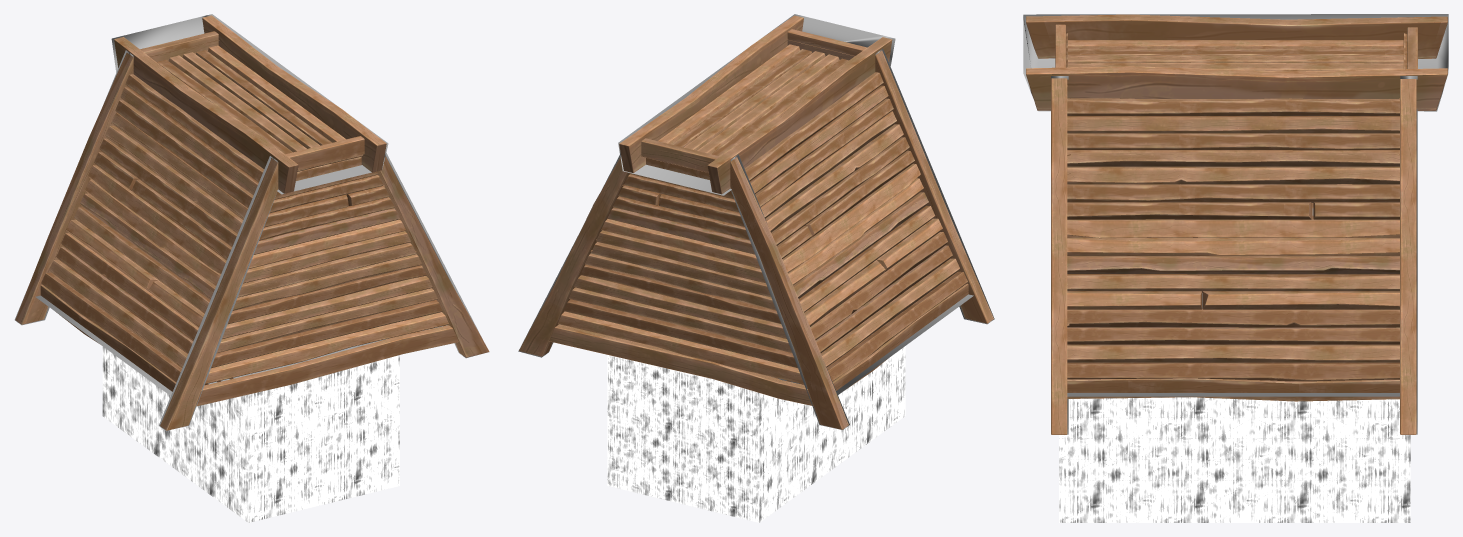
Rendered from SM_BuildingBase_01.gltf.
3 renders of one model, left to right at view 1: azimuth 30°, elevation 25°; view 2: azimuth 150°, elevation 25°; view 3: azimuth 270°, elevation 25°, orthographic. The views are drawn at different scales.
Parts seen in each view (by area): view 1: SM_BuildingBase_01_LOD0, SM_BuildingBase_01_ConvexHulls; view 2: SM_BuildingBase_01_LOD0, SM_BuildingBase_01_ConvexHulls; view 3: SM_BuildingBase_01_LOD0, SM_BuildingBase_01_ConvexHulls.
Boxes of the visible parts, bbox=[...] form: SM_BuildingBase_01_LOD0: bbox=[15, 15, 489, 522]; SM_BuildingBase_01_ConvexHulls: bbox=[14, 14, 487, 430]; SM_BuildingBase_01_LOD0: bbox=[519, 15, 993, 522]; SM_BuildingBase_01_ConvexHulls: bbox=[518, 14, 994, 429]; SM_BuildingBase_01_LOD0: bbox=[1026, 14, 1447, 522]; SM_BuildingBase_01_ConvexHulls: bbox=[1023, 14, 1448, 434].
Size of what is drawn, in the model's own units: 12.81 by 13.65 by 12.08.
4 materials, 3 textured.
